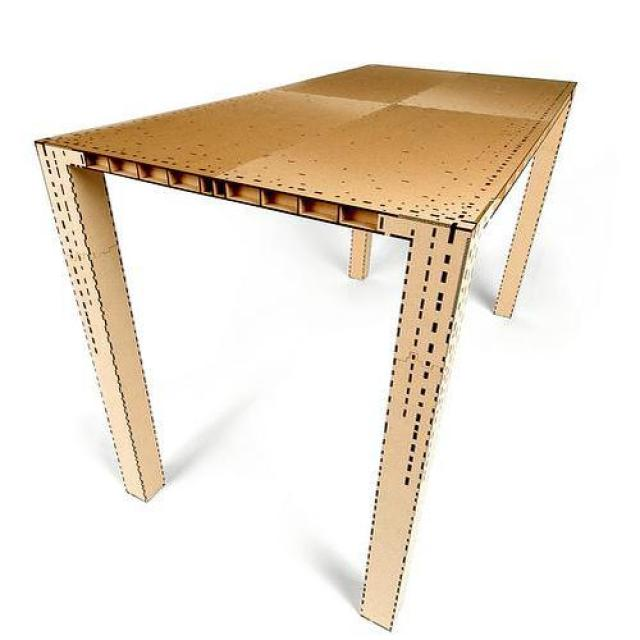table: (38, 64, 577, 631)
